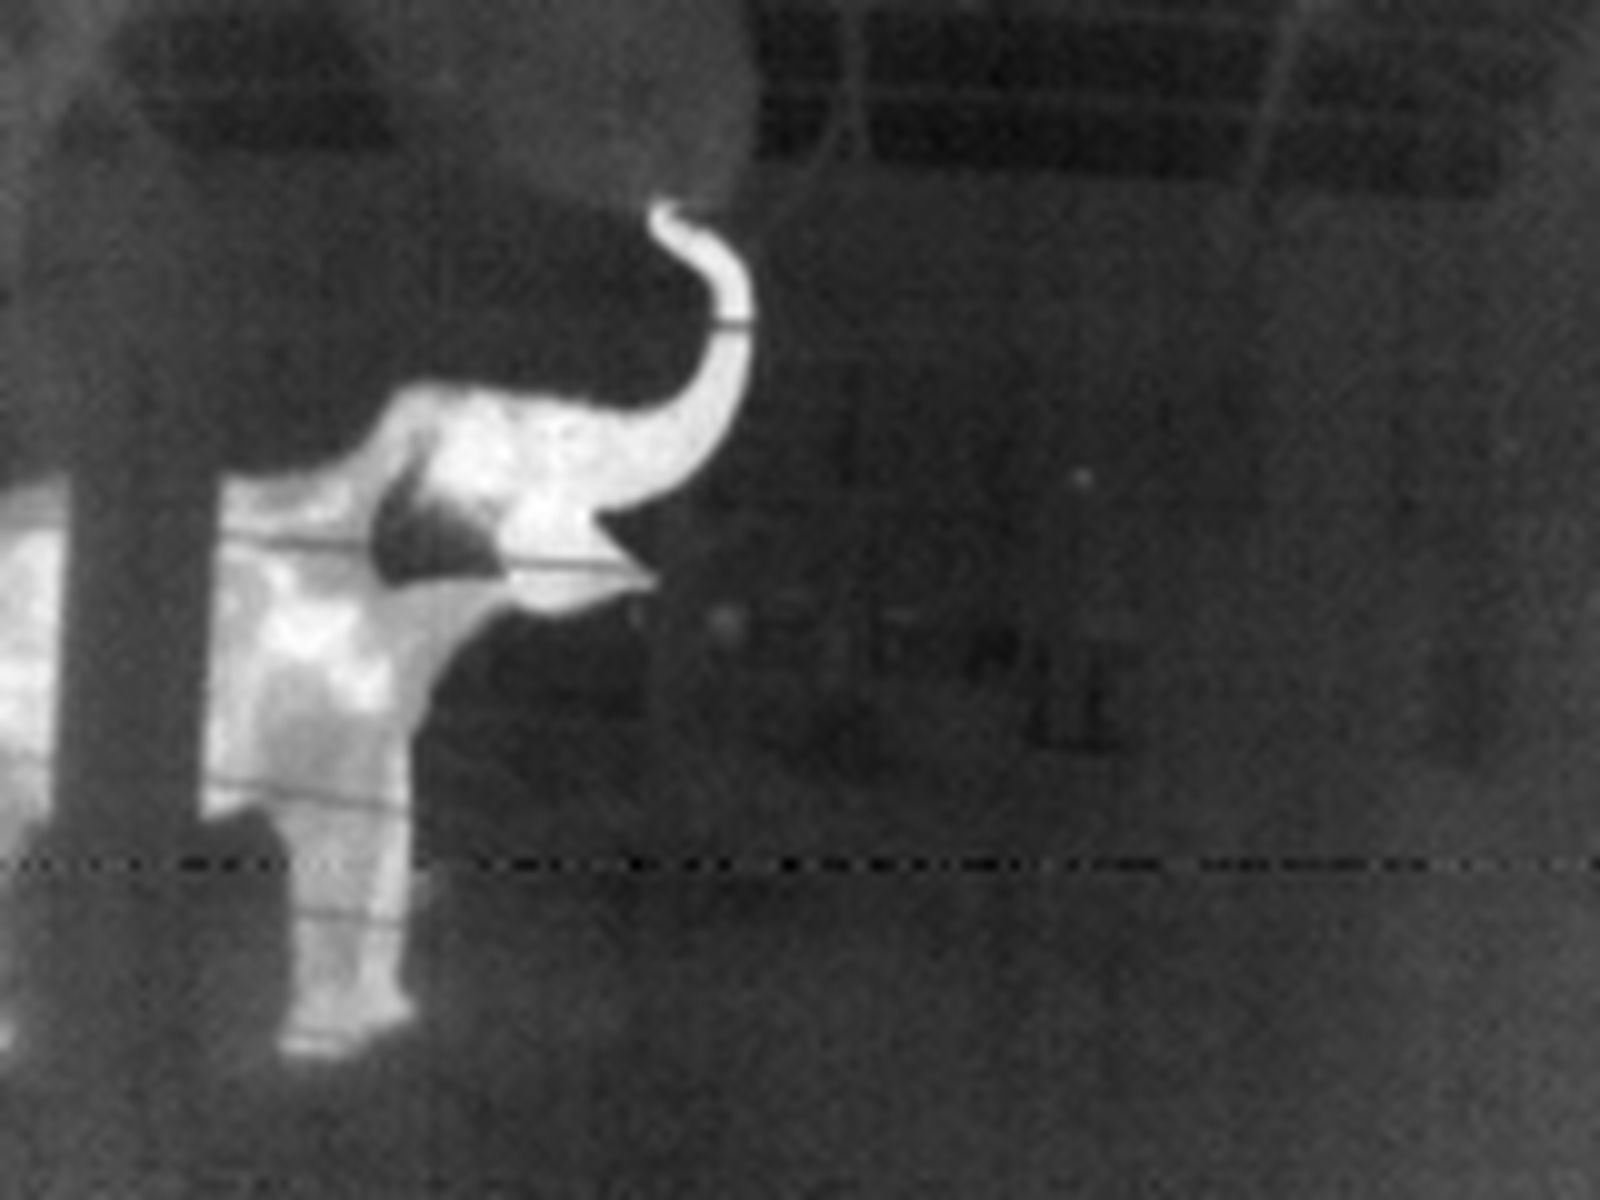elephant: (21, 176, 816, 1103)
